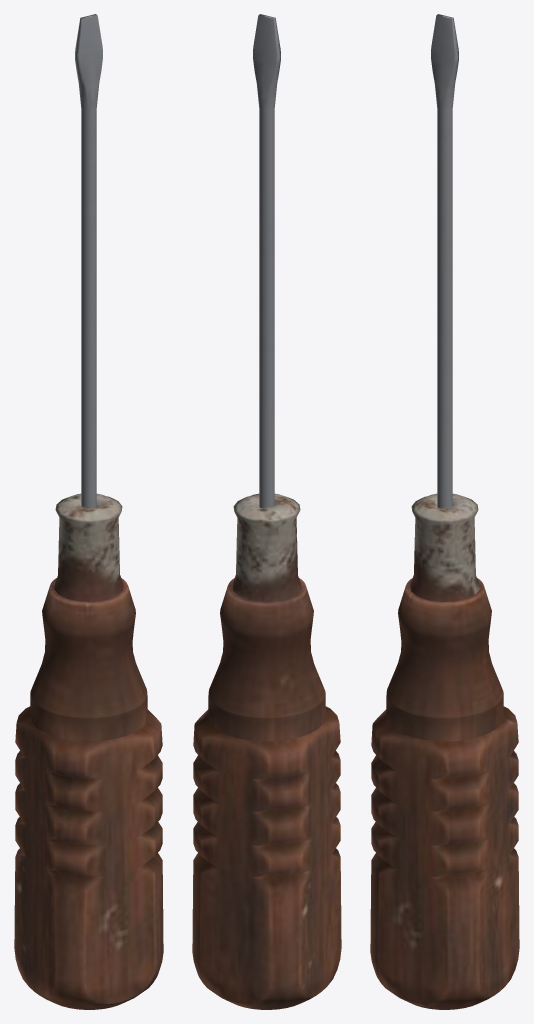
The model's file is flathead_screwdriver.glb.
3 renders of one model, left to right at view 1: azimuth 30°, elevation 25°; view 2: azimuth 150°, elevation 25°; view 3: azimuth 330°, elevation 25°, orthographic.
Parts seen in each view (by area): view 1: flathead_screwdriver; view 2: flathead_screwdriver; view 3: flathead_screwdriver.
Boxes of the visible parts, box(x1,y1,x2,y2) form: flathead_screwdriver: box(14, 14, 163, 1009); flathead_screwdriver: box(192, 14, 341, 1009); flathead_screwdriver: box(370, 14, 519, 1009).
Size of the model in its own units: 0.03 by 0.2613 by 0.03.
Materials: 1 (1 with a texture image).
